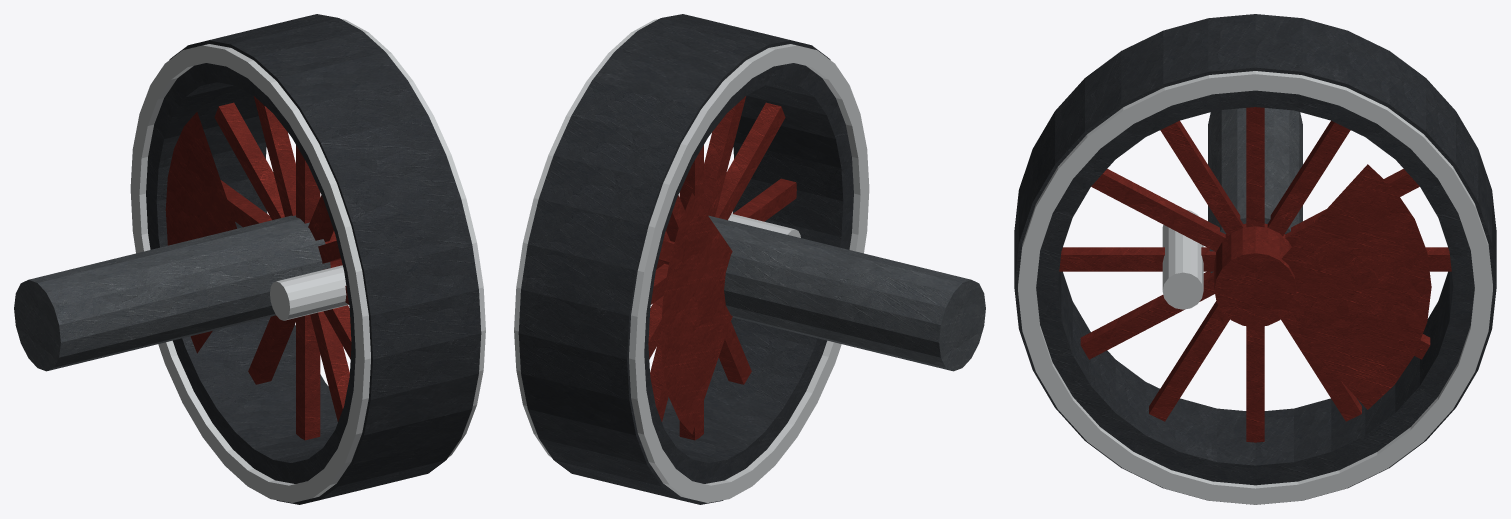
Rendered from train_wheel_medium.gltf.
3 renders of one model, left to right at view 1: azimuth 30°, elevation 25°; view 2: azimuth 150°, elevation 25°; view 3: azimuth 270°, elevation 25°, orthographic.
Size of the model in its own units: 0.618 by 0.76 by 0.76.
Materials: 4 (3 with a texture image).
